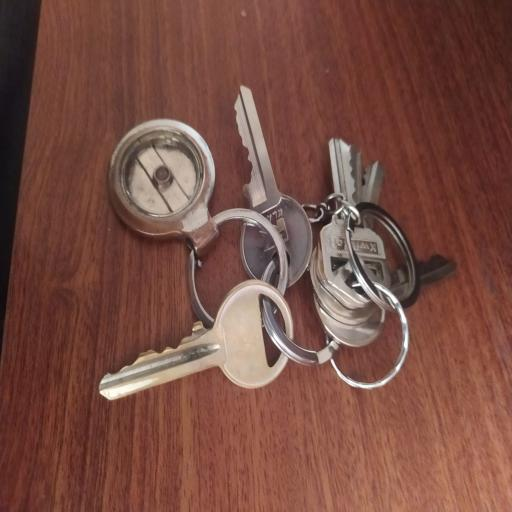Llaves: (79, 76, 462, 434)
